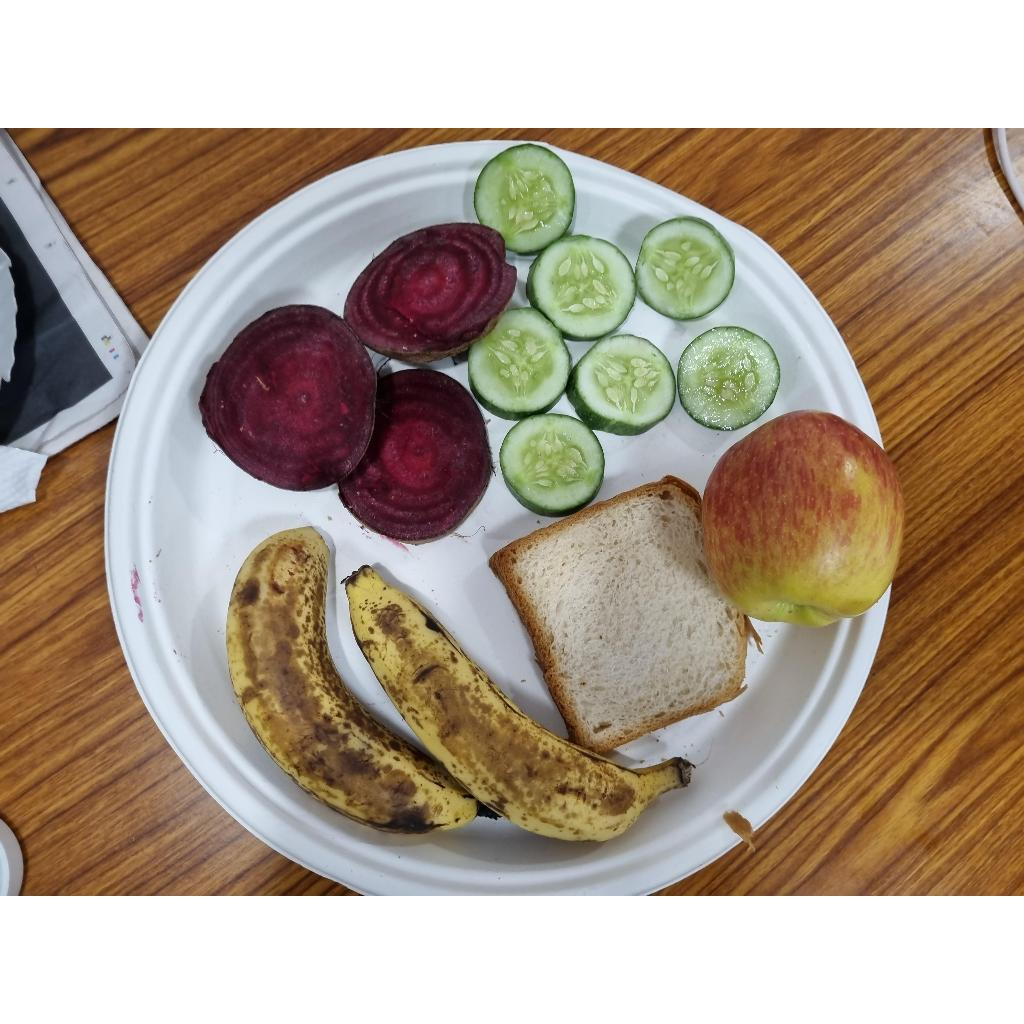apple: (699, 411, 905, 630)
banana: (340, 568, 687, 845), (225, 528, 494, 835)
cucumber: (468, 307, 577, 424), (494, 415, 609, 525), (474, 143, 578, 263), (524, 236, 638, 343), (674, 324, 783, 434), (568, 333, 678, 436), (632, 218, 735, 324)
